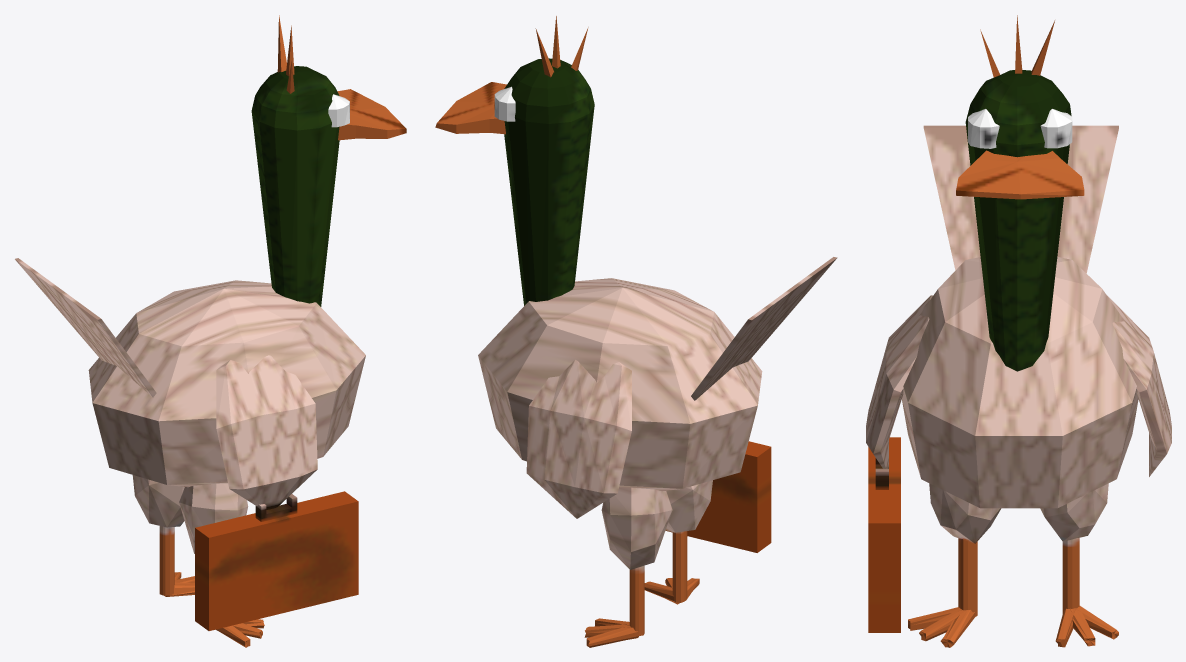
Rendered from Farm1.glb.
3 views of the same model, side by side, from view 1: azimuth 30°, elevation 25°; view 2: azimuth 150°, elevation 25°; view 3: azimuth 270°, elevation 25° (orthographic). The views are drawn at different scales.
Visible parts, largest first — view 1: Farm1; view 2: Farm1; view 3: Farm1.
Boxes of the visible parts, <box> form: Farm1: <box>15,15,406,647</box>; Farm1: <box>435,16,837,647</box>; Farm1: <box>866,15,1171,647</box>.
Bounding box in the file's own units: 259 × 427 × 178.
1 material, 1 textured.
